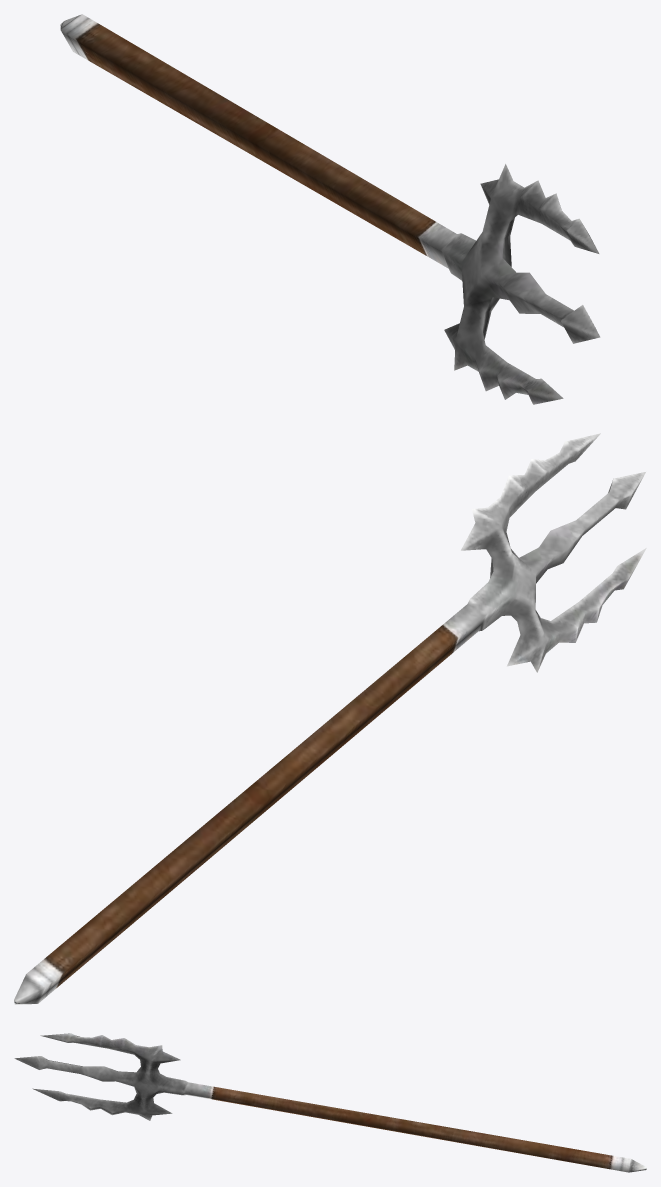
The model's file is weapon-ironweapons.glb.
3 views of the same model, one above another, from view 1: azimuth 30°, elevation 25°; view 2: azimuth 150°, elevation 25°; view 3: azimuth 270°, elevation 25° (orthographic). The views are drawn at different scales.
Size of the model in its own units: 0.3111 by 0.555 by 2.5.
Materials: 1 (1 with a texture image).
